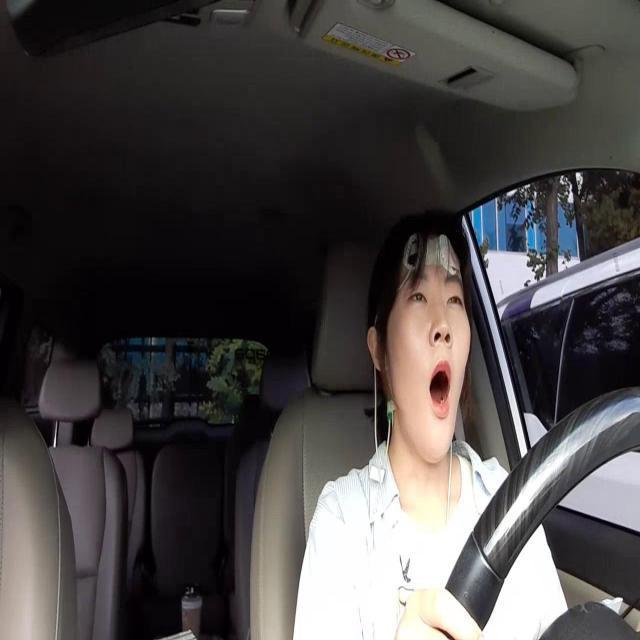Attentive: (369, 204, 472, 464)
Yawning: (426, 356, 456, 421)
